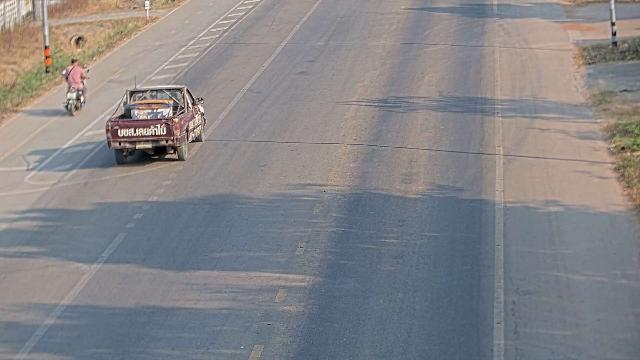motorcycle: (59, 66, 90, 115)
pickup-truck: (105, 81, 206, 165)
